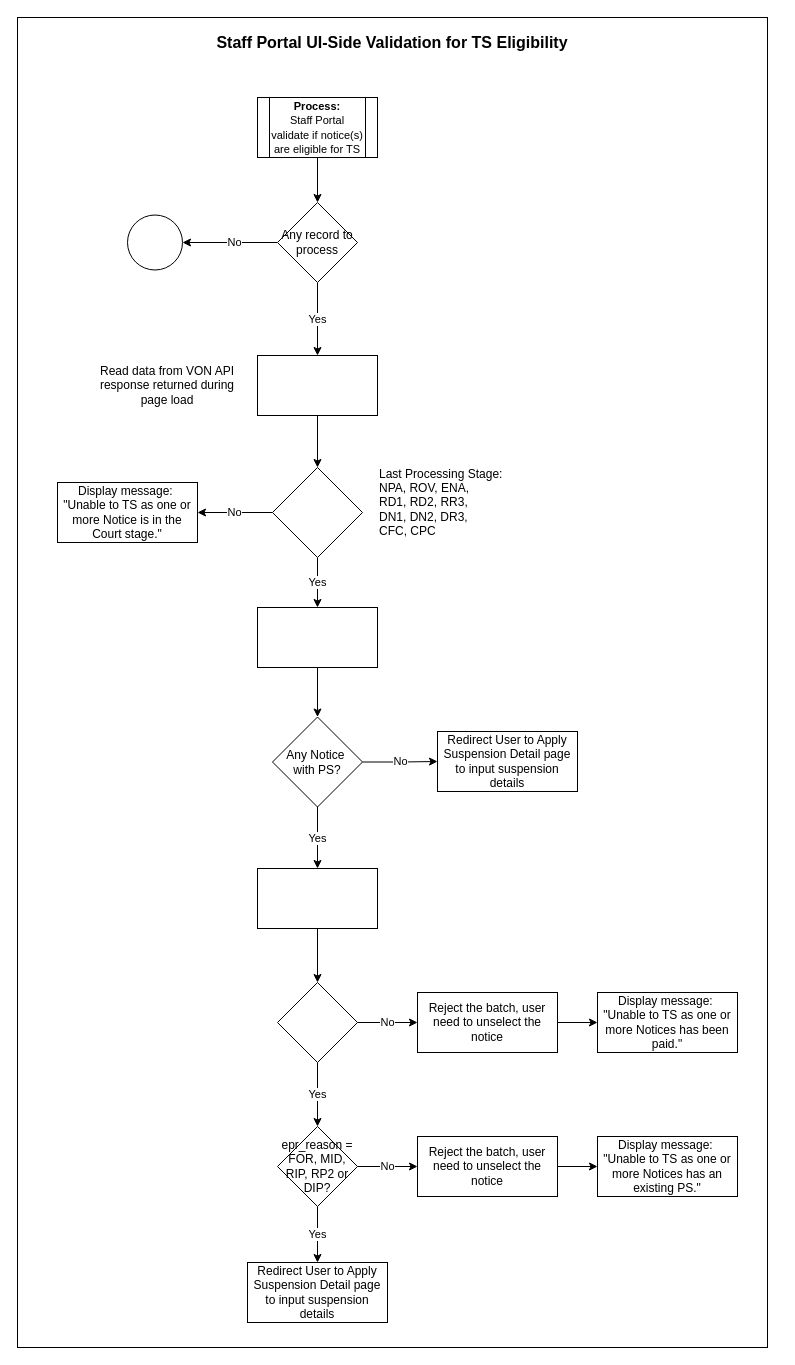
Image size: 795x1365. Some labels were removed from this diagram. The centre of each missing label's shape, as x and y in pixels:
Any Notice with Last processing stage = any of the stages on right?: the point at 317,512
crs_reason = blank?: the point at 317,1022
Detect any Notice has existing PS suspension: the point at 317,637
Detect any Notice Last Processing Stage is in the Court Stage: the point at 317,385
End: the point at 154,242
Process next record: the point at 317,898
